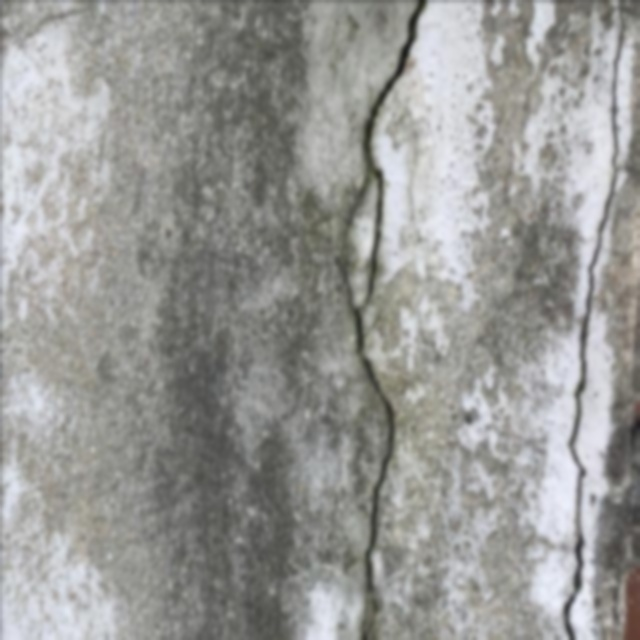SurfaceCrack: (299, 0, 477, 640), (520, 1, 640, 640)
